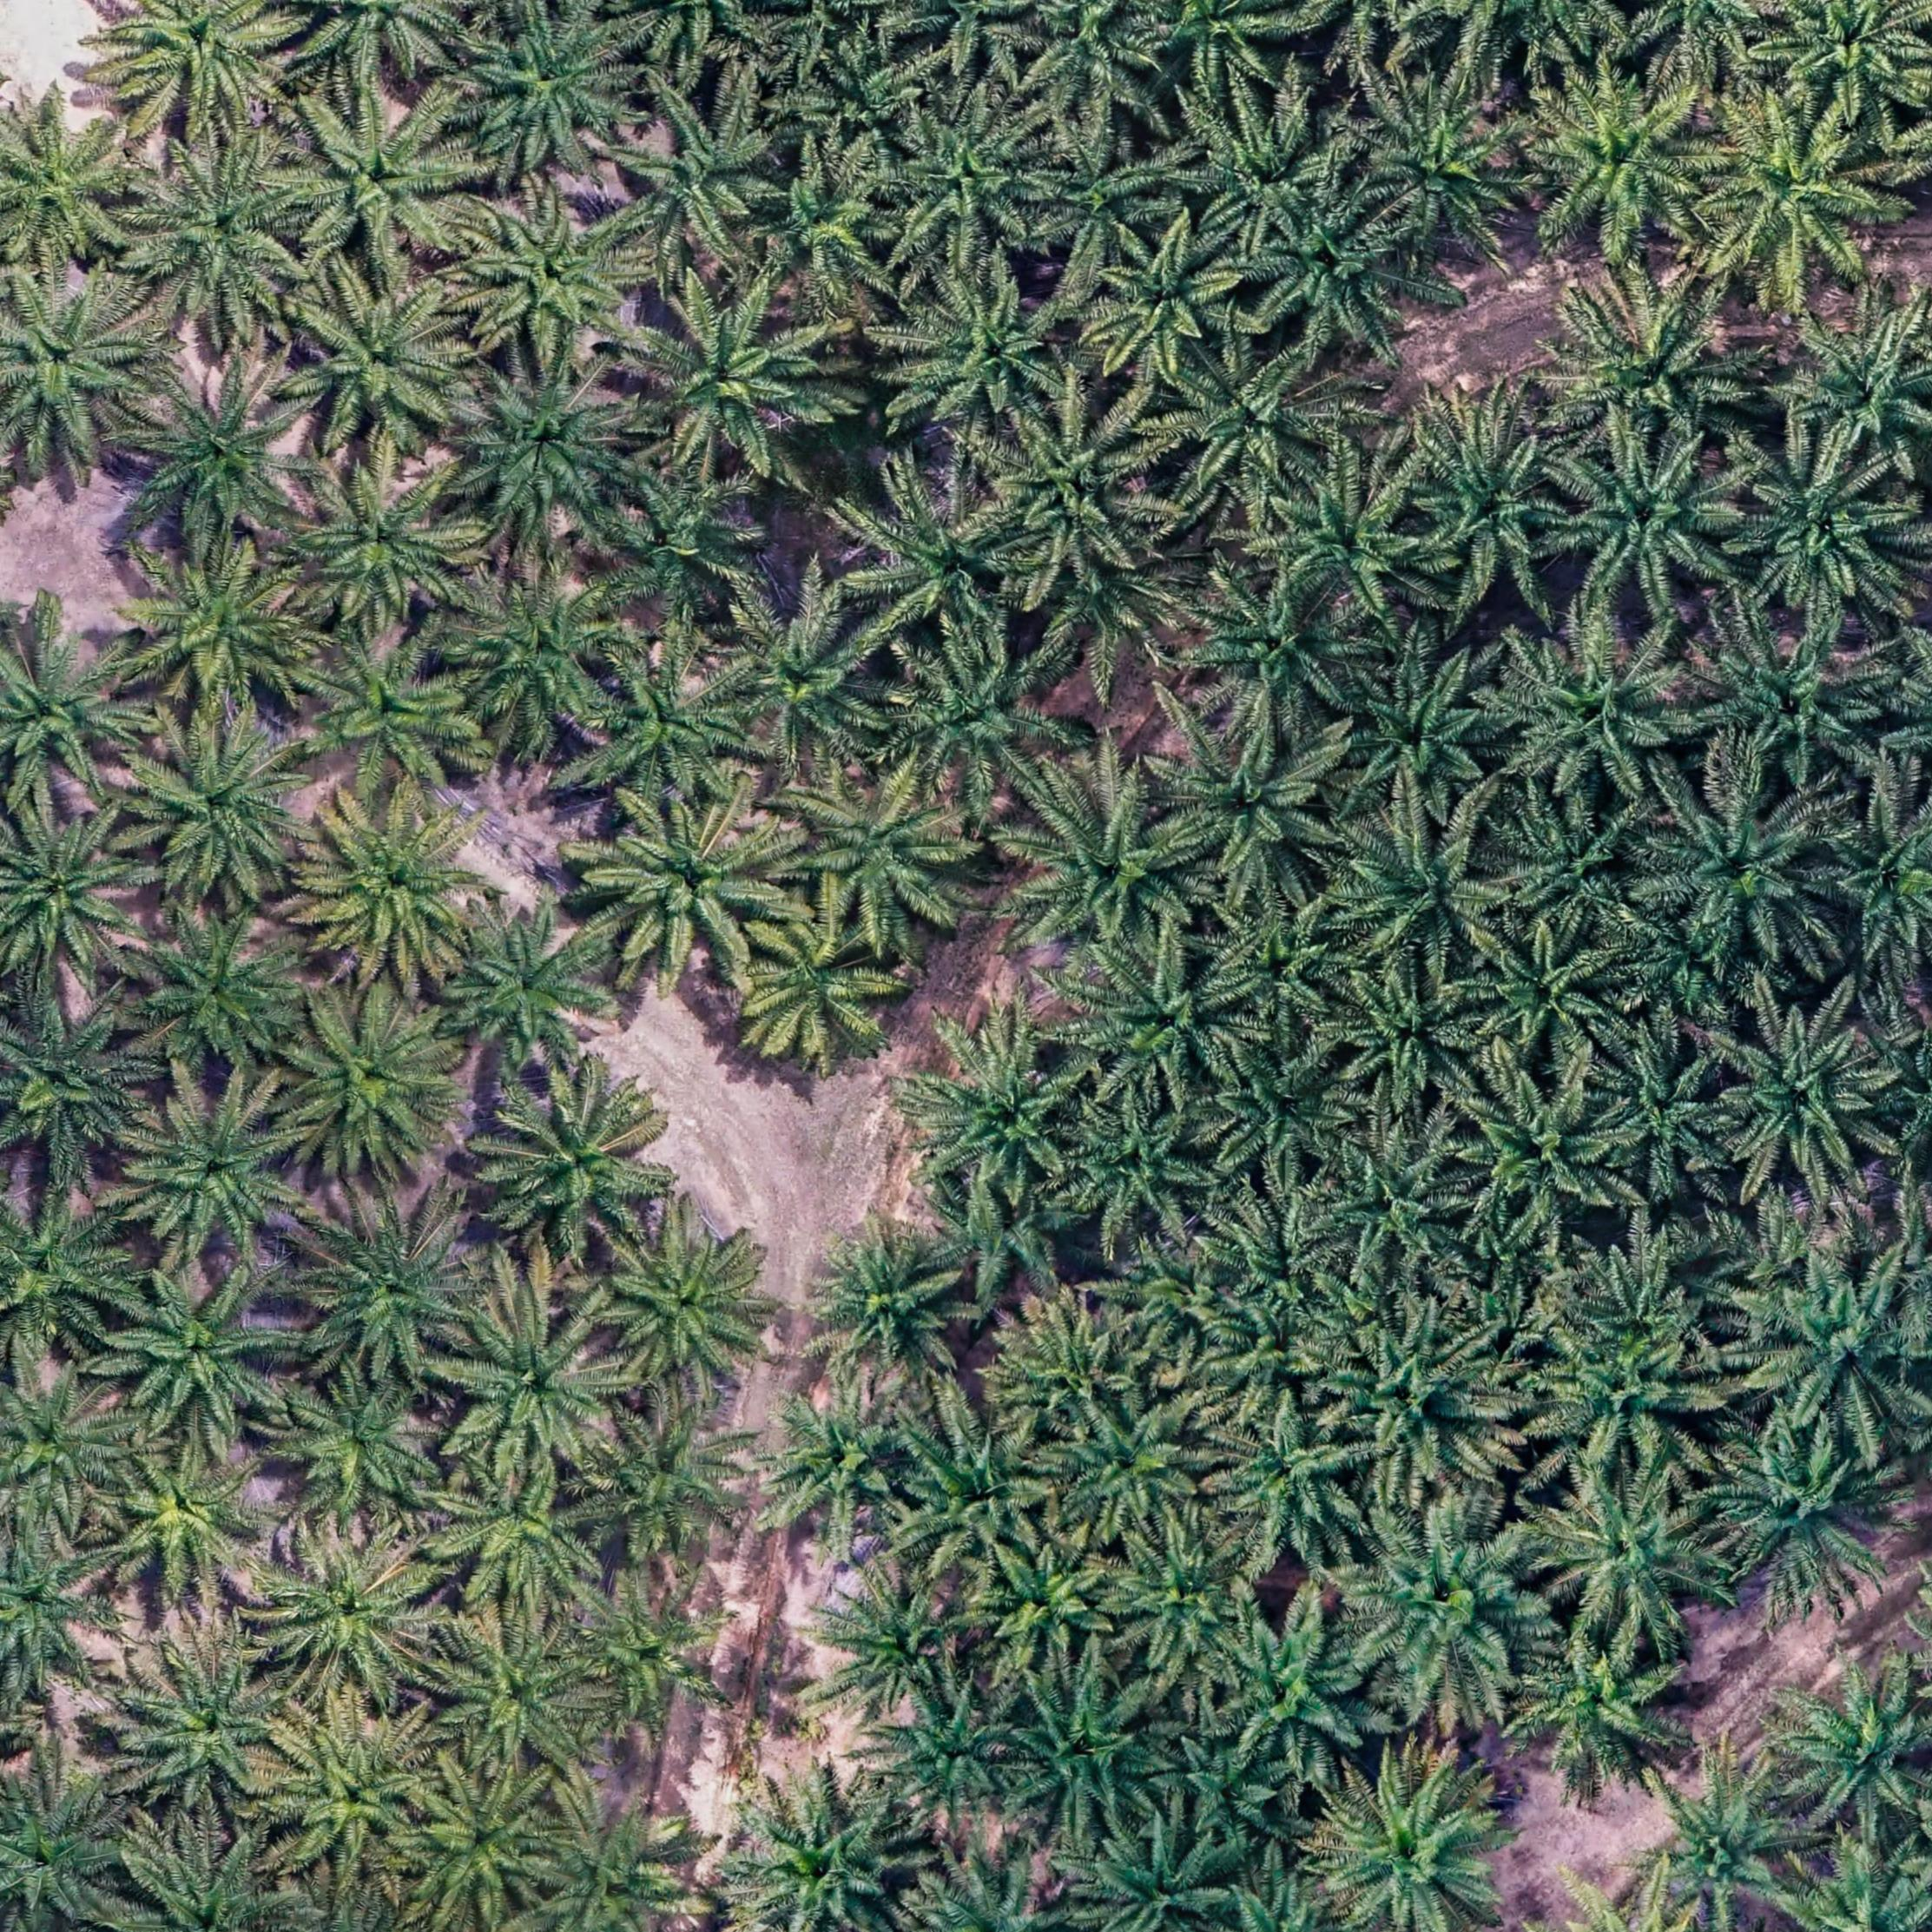palmtree: (619, 276, 846, 487), (994, 768, 1217, 977), (1338, 1500, 1552, 1709), (1691, 101, 1905, 303), (582, 789, 798, 987), (1488, 621, 1702, 816), (1536, 271, 1753, 462), (1637, 777, 1845, 971), (1730, 1247, 1932, 1445), (1318, 1304, 1523, 1499), (1706, 1417, 1909, 1612), (126, 136, 324, 334), (472, 1072, 674, 1267), (299, 791, 501, 982), (449, 350, 648, 543), (126, 717, 326, 908), (1520, 67, 1721, 257), (280, 92, 483, 280), (297, 1191, 494, 1384), (126, 357, 322, 550), (1543, 437, 1750, 619), (117, 543, 324, 725), (274, 993, 472, 1182), (1525, 1304, 1729, 1488), (1688, 617, 1897, 796), (842, 471, 1039, 660), (1725, 433, 1916, 625), (442, 1292, 635, 1481), (295, 626, 488, 814), (1532, 1474, 1729, 1658), (124, 1079, 315, 1267), (738, 1378, 929, 1566), (780, 766, 977, 948), (1155, 336, 1352, 518), (285, 269, 481, 451), (1159, 720, 1352, 904), (108, 1265, 303, 1445), (1622, 1750, 1819, 1928), (883, 267, 1079, 444), (117, 1633, 303, 1819), (456, 195, 653, 370), (1714, 1008, 1900, 1192), (1346, 69, 1530, 255), (593, 1215, 782, 1396), (255, 1527, 448, 1704), (127, 902, 320, 1079), (283, 456, 476, 633), (453, 7, 649, 180), (885, 1403, 1070, 1585), (879, 637, 1074, 810), (1315, 1762, 1513, 1932), (987, 396, 1169, 580), (568, 1573, 748, 1759), (996, 1665, 1184, 1844), (722, 1776, 934, 1932), (449, 563, 635, 740), (906, 1019, 1093, 1194), (1184, 566, 1375, 738), (0, 265, 159, 471), (442, 902, 623, 1083), (1407, 416, 1583, 600), (619, 92, 796, 276), (720, 589, 904, 764), (577, 1398, 759, 1573), (1329, 644, 1511, 817), (879, 99, 1063, 271), (262, 1711, 444, 1882), (101, 1440, 290, 1605), (1449, 1070, 1624, 1247), (593, 462, 771, 635), (432, 1614, 614, 1782), (580, 648, 766, 812), (428, 1454, 616, 1617), (1208, 1606, 1385, 1776), (1509, 1631, 1693, 1794), (269, 1371, 453, 1534), (1246, 195, 1422, 363), (0, 989, 159, 1175), (103, 0, 313, 138), (803, 1221, 975, 1389), (741, 902, 909, 1074), (1338, 809, 1514, 970), (1077, 948, 1258, 1106), (0, 628, 152, 814), (0, 801, 152, 985), (1086, 226, 1253, 395), (807, 1564, 987, 1718), (531, 1782, 715, 1932), (1178, 103, 1355, 258), (1208, 1405, 1376, 1568), (1270, 469, 1444, 626), (1780, 1670, 1932, 1849), (403, 1762, 570, 1925), (1053, 1391, 1226, 1546), (1562, 1224, 1725, 1387), (1102, 1520, 1263, 1684), (0, 1184, 143, 1368), (966, 1527, 1136, 1681), (1030, 531, 1200, 681), (1782, 311, 1932, 479), (1060, 1095, 1226, 1246), (1470, 918, 1633, 1069), (0, 108, 149, 272), (1591, 1030, 1746, 1185), (876, 1675, 1037, 1824), (1330, 970, 1493, 1116), (748, 156, 906, 304), (0, 1522, 126, 1707), (0, 1368, 140, 1534), (1323, 1131, 1477, 1279), (1205, 1035, 1362, 1180), (991, 1304, 1150, 1445), (0, 1771, 140, 1932), (1813, 789, 1932, 975), (1499, 798, 1658, 936), (922, 1175, 1086, 1307), (1759, 0, 1930, 126), (1145, 1727, 1300, 1861), (1033, 131, 1178, 274), (1212, 895, 1361, 1033), (1010, 0, 1169, 124), (113, 1833, 304, 1932), (1067, 1824, 1240, 1932), (1210, 1201, 1353, 1330), (1129, 0, 1304, 104), (287, 0, 485, 88), (1106, 1235, 1238, 1362), (810, 39, 934, 168), (1207, 1309, 1332, 1421), (911, 1842, 1062, 1932)
